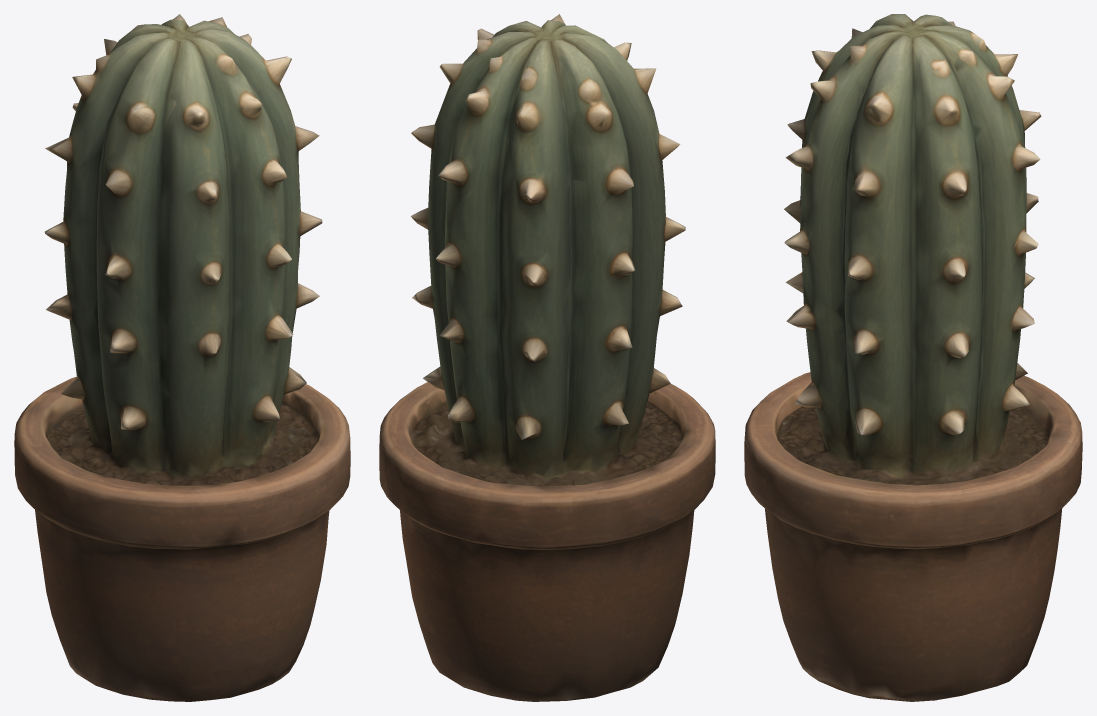
The model's file is Prop_GreenhousePotG.fbx.
3 views of the same model, side by side, from view 1: azimuth 30°, elevation 25°; view 2: azimuth 150°, elevation 25°; view 3: azimuth 270°, elevation 25° (orthographic).
Visible parts, largest first — view 1: texture_mapping; view 2: texture_mapping; view 3: texture_mapping.
Boxes of the visible parts, <box> form: texture_mapping: <box>14,14,350,701</box>; texture_mapping: <box>379,14,715,701</box>; texture_mapping: <box>744,14,1082,701</box>.
Size of the model in its own units: 0.4898 by 0.4893 by 0.9992.
Materials: 1 (1 with a texture image).
